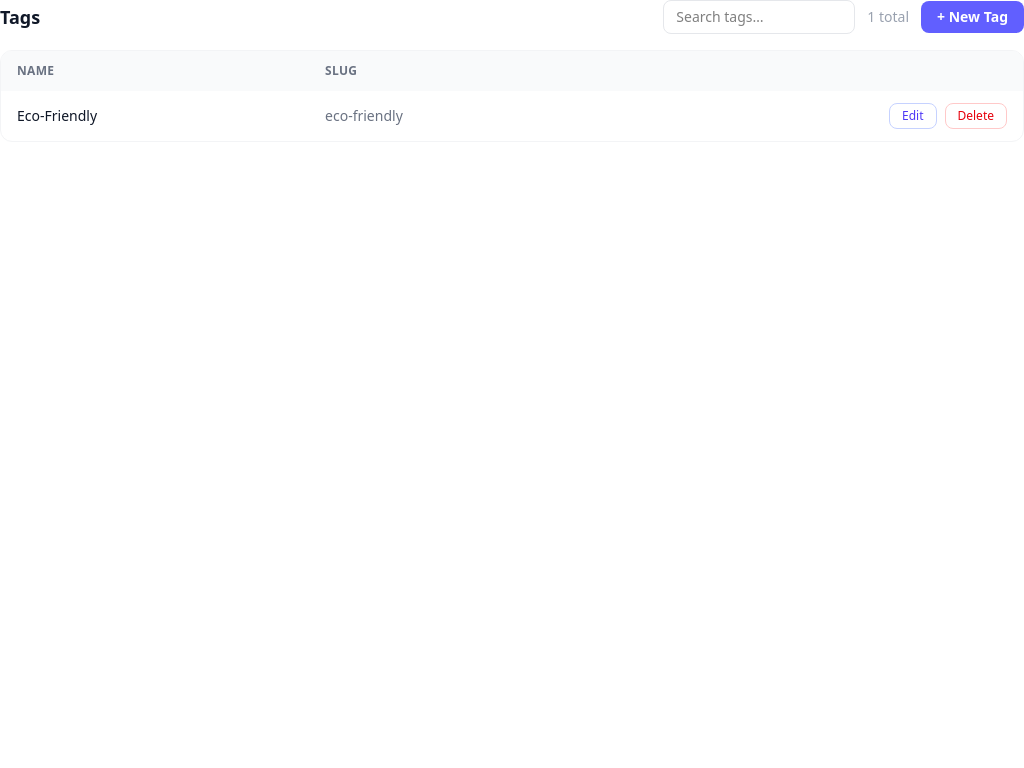
TagsTab › surfaces the backend error message when create fails (e.g. duplicate name)
Expected: the text "Eco-Friendly" is shown, x1=1 y1=91 x2=309 y2=141
Click the button "+ New Tag".
click(972, 17)  # box x1=921 y1=1 x2=1023 y2=33
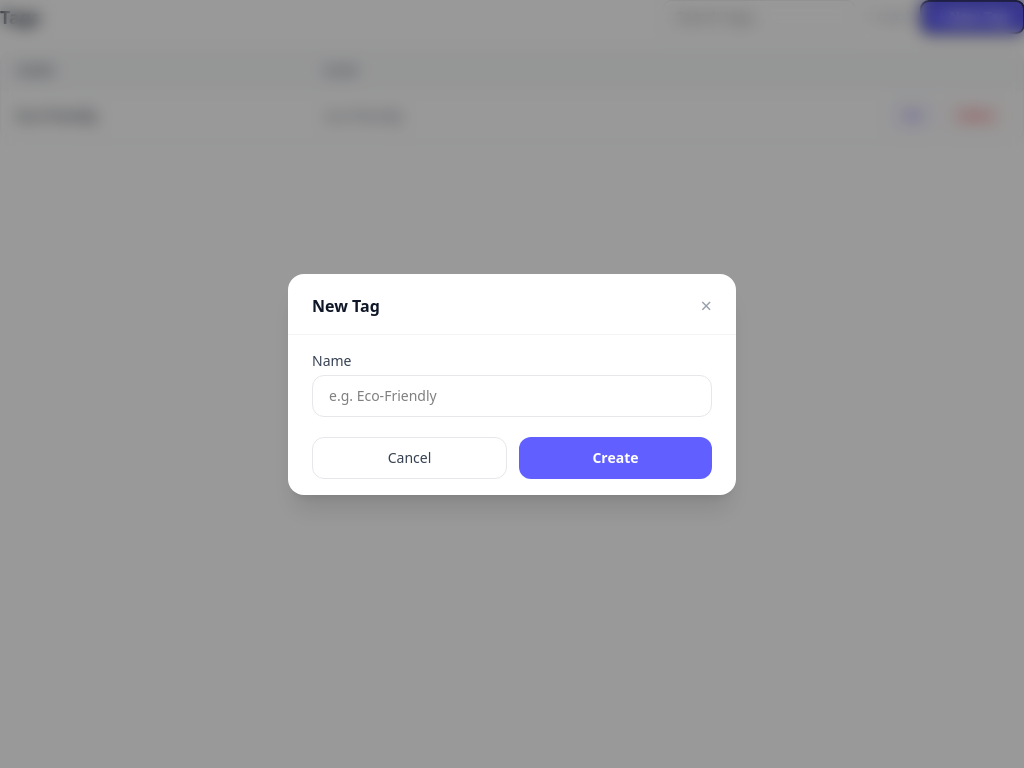
Type "Eco-Friendly" into the field labelled "Name".
click(512, 396); type("Eco-Friendly")  # box x1=312 y1=374 x2=712 y2=416
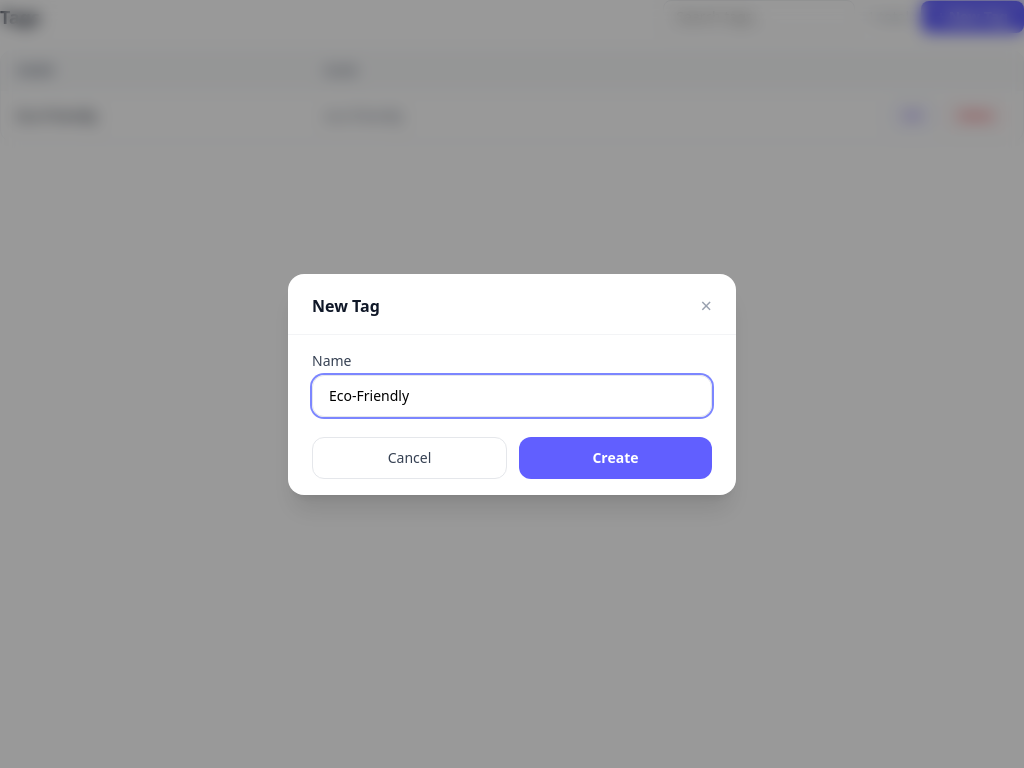
Click the button "Create".
click(616, 458)  # box x1=519 y1=436 x2=712 y2=478
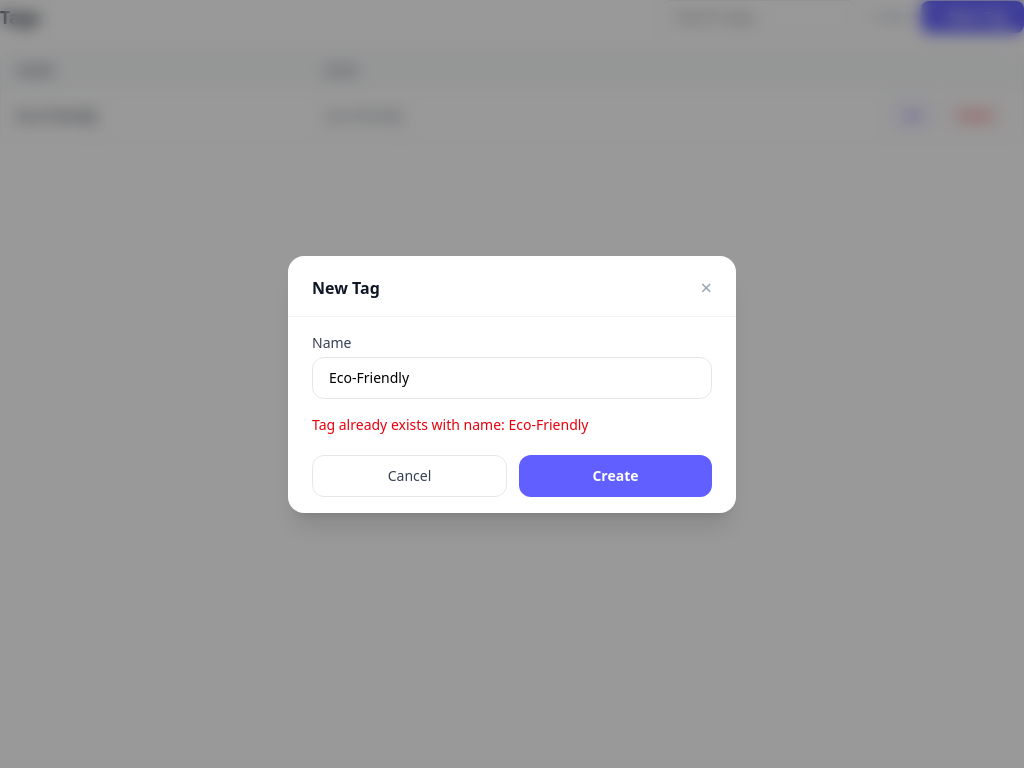
Now the text "Tag already exists with name: Eco-Friendly" is shown, box x1=312 y1=414 x2=588 y2=434
